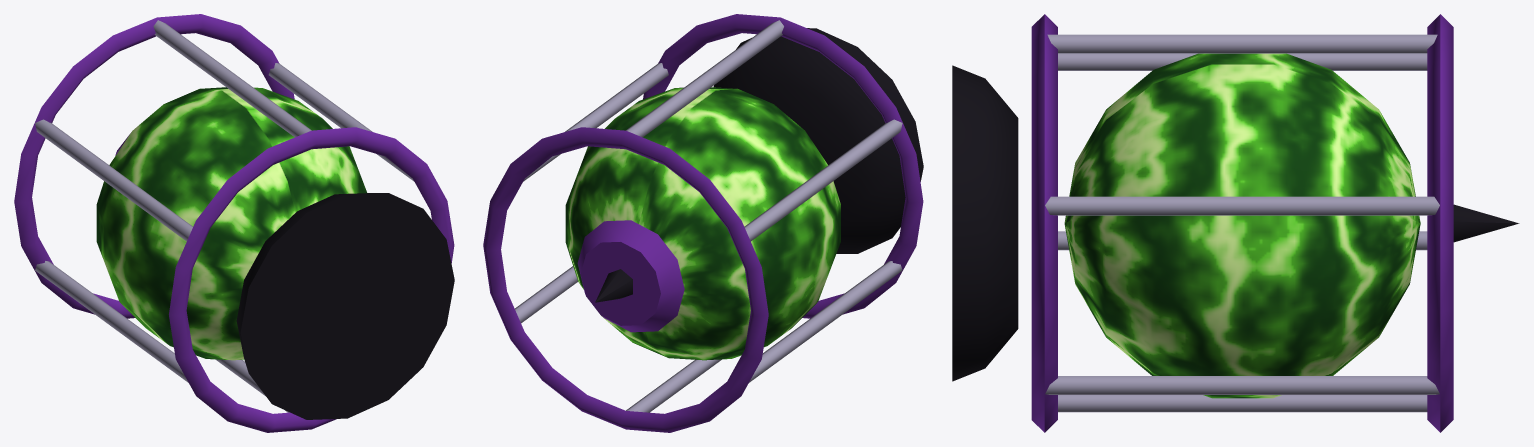
Rendered from dominion_shield_pod.obj.
3 views of the same model, side by side, from view 1: azimuth 30°, elevation 25°; view 2: azimuth 150°, elevation 25°; view 3: azimuth 270°, elevation 25° (orthographic). The views are drawn at different scales.
Parts seen in each view (by area): view 1: collar, core, cage_ring, cage_bar; view 2: core, cage_ring, collar, cage_bar, cap, spike; view 3: core, cage_bar, cage_ring, collar, spike.
Part boxes in pixels (x1=…): collar: x1=236, y1=193, x2=454, y2=419; core: x1=96, y1=87, x2=366, y2=360; cage_ring: x1=14, y1=14, x2=454, y2=432; cage_bar: x1=35, y1=20, x2=414, y2=412; core: x1=565, y1=87, x2=840, y2=360; cage_ring: x1=483, y1=14, x2=923, y2=432; collar: x1=713, y1=28, x2=923, y2=253; cage_bar: x1=515, y1=20, x2=902, y2=412; cap: x1=577, y1=220, x2=684, y2=332; spike: x1=595, y1=269, x2=632, y2=302; core: x1=1064, y1=53, x2=1420, y2=398; cage_bar: x1=1045, y1=34, x2=1439, y2=412; cage_ring: x1=1031, y1=14, x2=1453, y2=432; collar: x1=952, y1=65, x2=1018, y2=381; spike: x1=1453, y1=204, x2=1519, y2=242.
Bounding box in the file's own units: 6.4 × 6.4 × 8.6.
4 materials, 1 textured.
